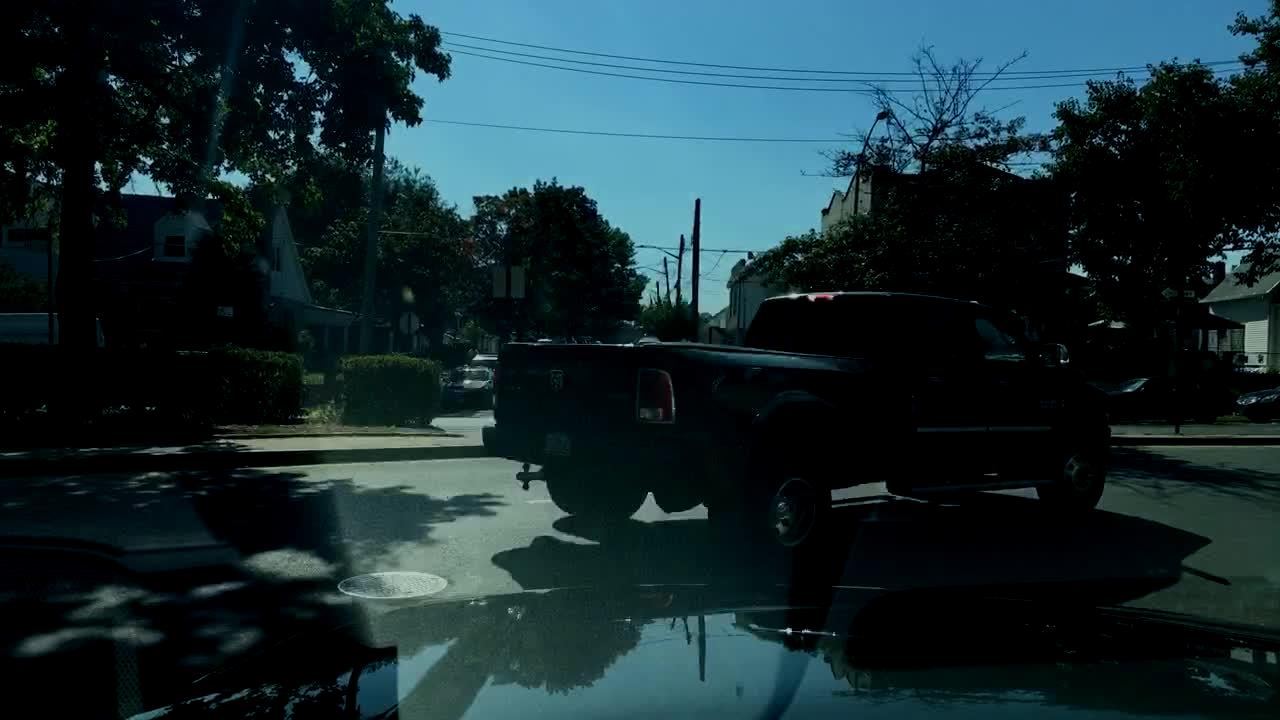ram: (543, 359, 573, 398)
